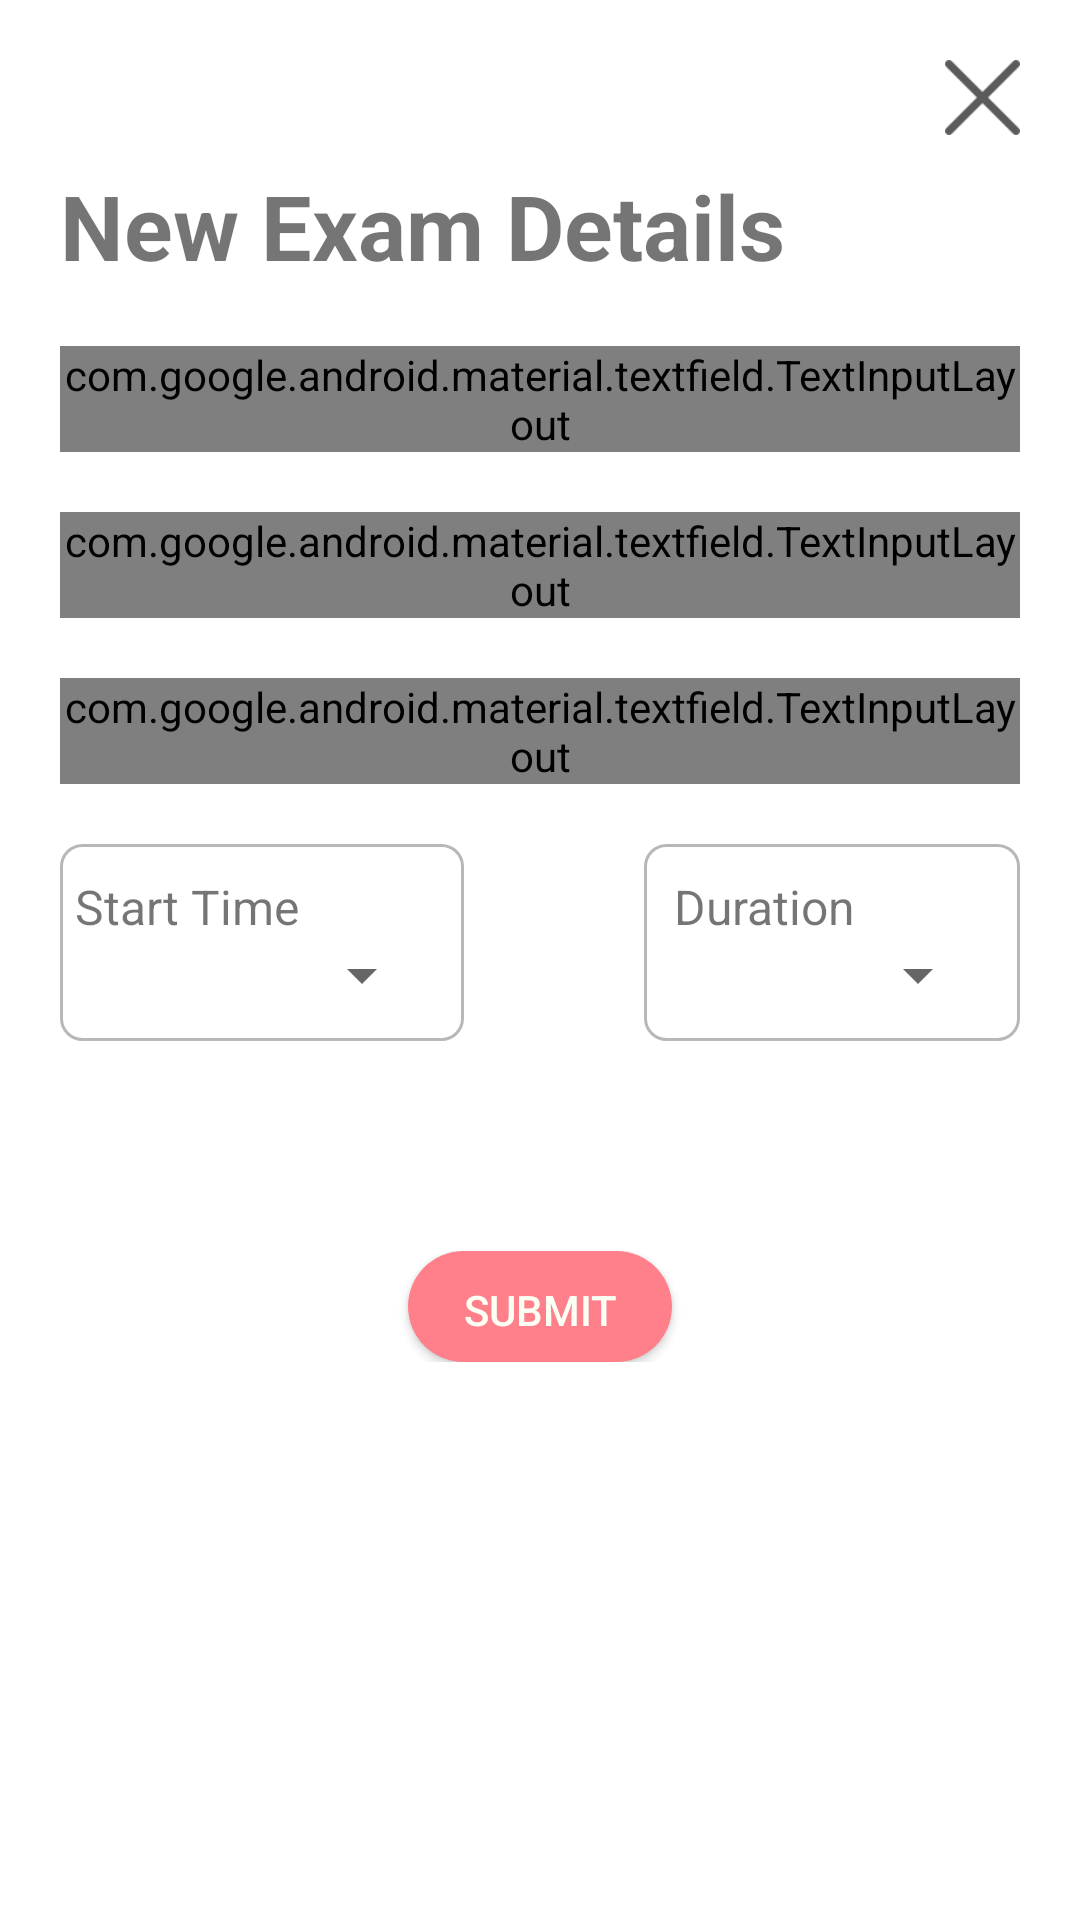

Icons on this 1080 x 1920 Android screen, each with its box as (x1, y1, x2, y2):
cancel: (945, 60, 1020, 135)
